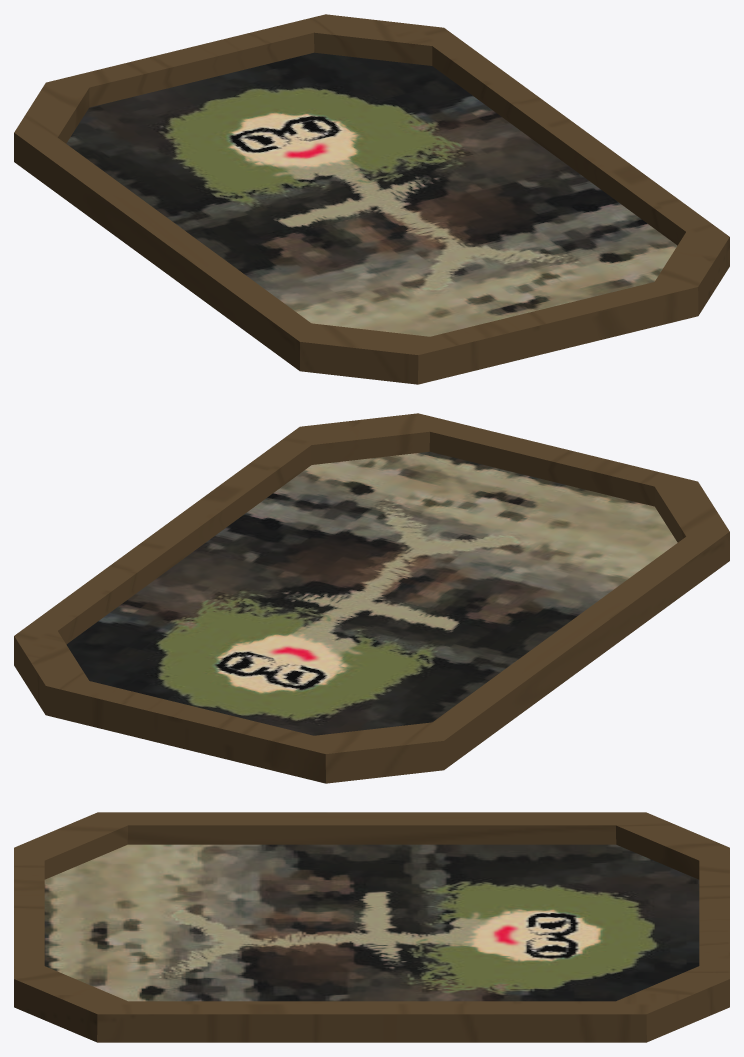
File: nere.fbx
The picture shows the model from 3 angles, top to bottom: view 1: azimuth 30°, elevation 25°; view 2: azimuth 150°, elevation 25°; view 3: azimuth 270°, elevation 25°; orthographic projection. The views are drawn at different scales.
Visible parts, largest first — view 1: Cuadros.003; view 2: Cuadros.003; view 3: Cuadros.003.
Part boxes in pixels (box(x1,y1,x2,y2)): Cuadros.003: box(14, 14, 729, 384); Cuadros.003: box(14, 413, 729, 783); Cuadros.003: box(14, 812, 729, 1042).
Size of the model in its own units: 40 by 2.61 by 60.
2 materials, 2 textured.
